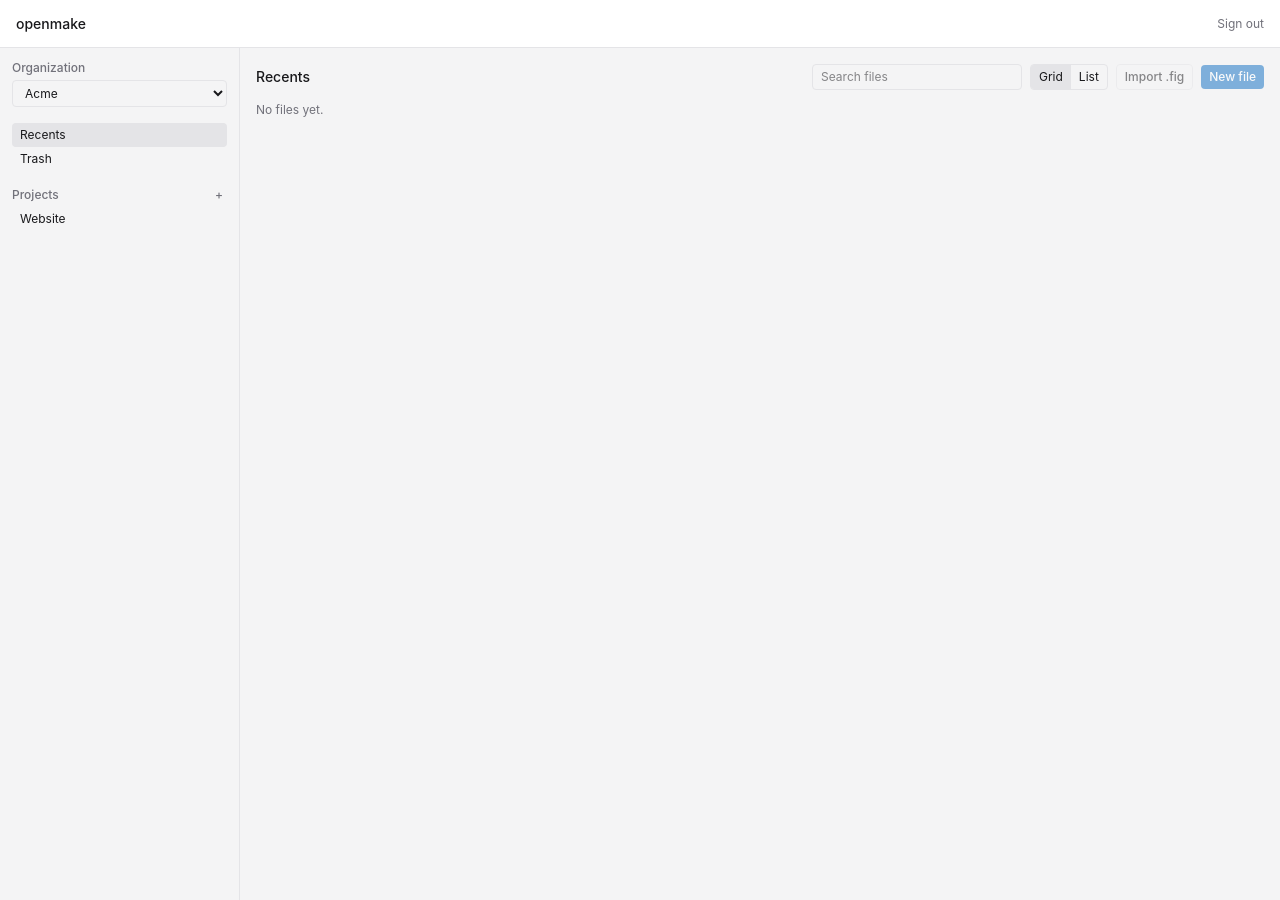
Test case: DashboardPage .fig import › asks for confirmation on warnings and aborts when the user cancels
Click the button with test id "project-proj1".
click(120, 219)  # box [12,207,227,231]
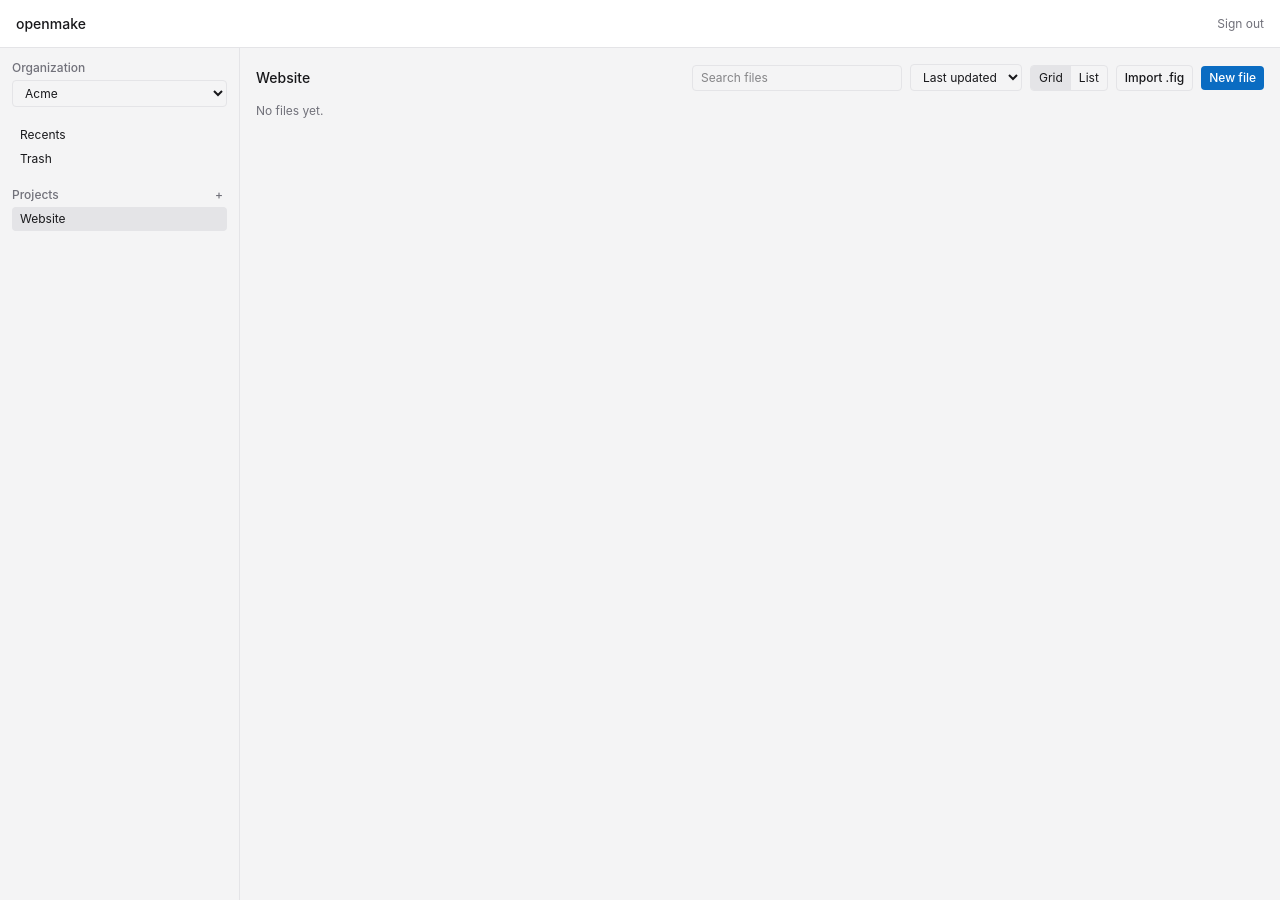
Expected: the button with test id "import-fig-button" is enabled, [1116,64,1193,90]
